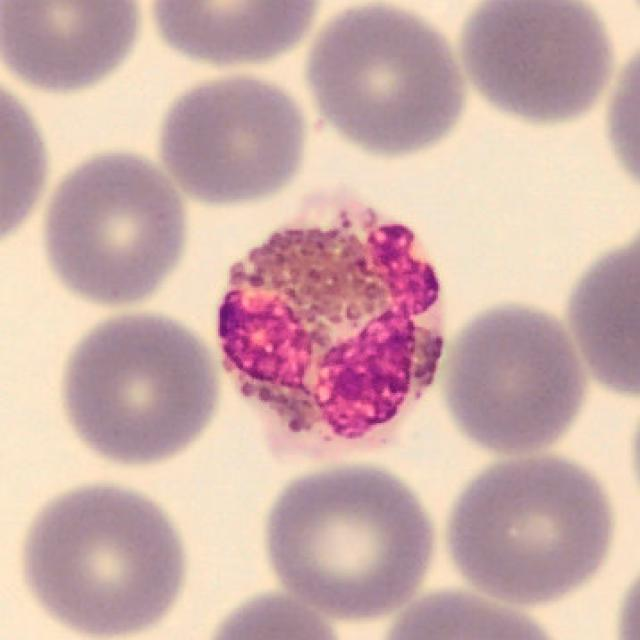Eosinofilo: (218, 196, 442, 455)
